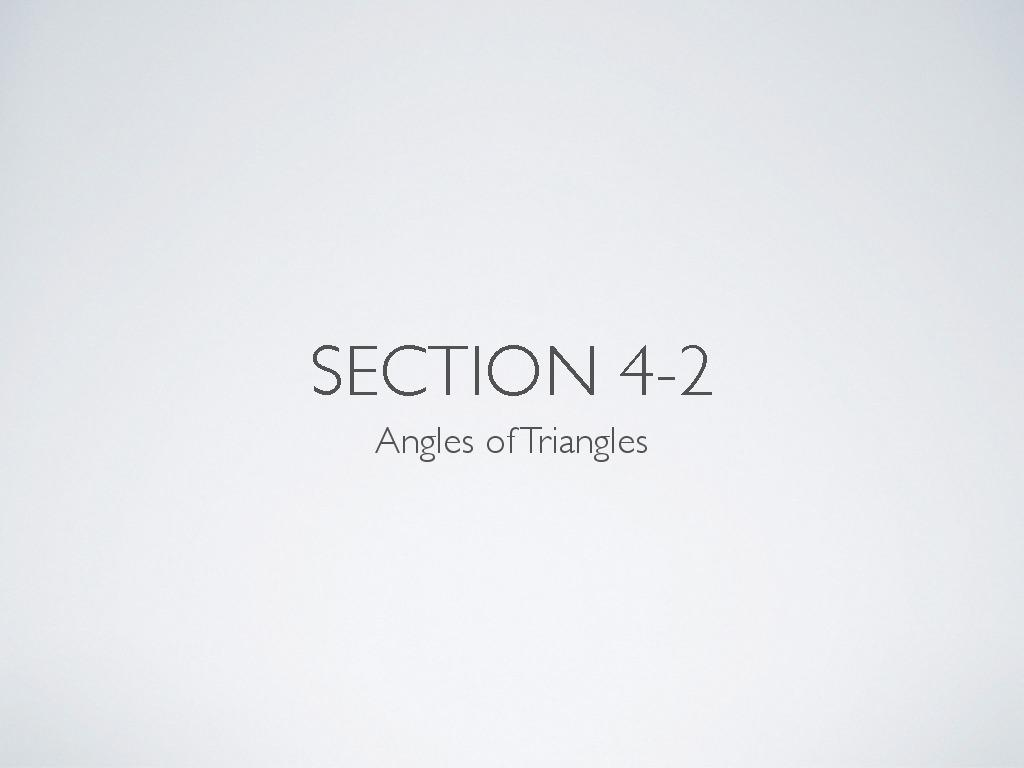title: (300, 316, 758, 476)
